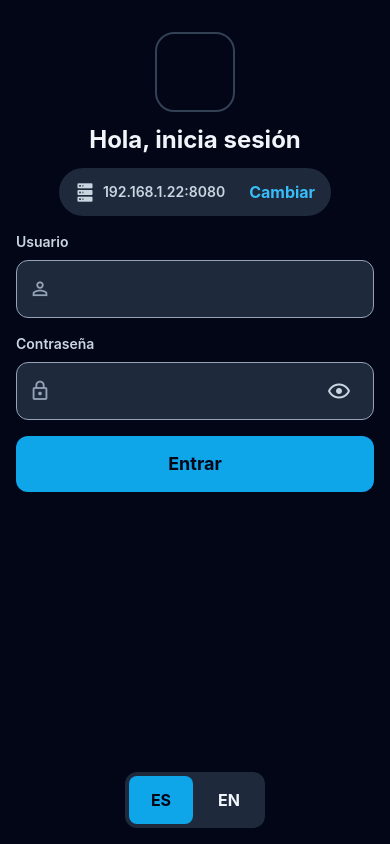
Test: shows the right error (0)
Type "ana" into the field with test id "login-username". click: (210, 289)
box: [59,261,361,317]
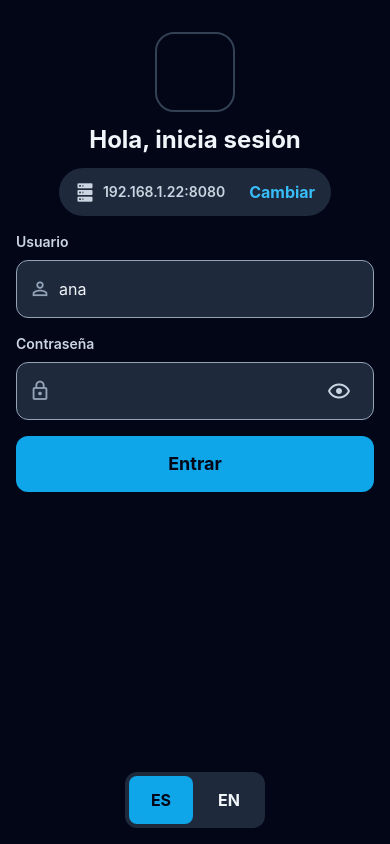
Type "x" into the password field with test id "login-password". click: (183, 391)
box: [59,363,307,419]
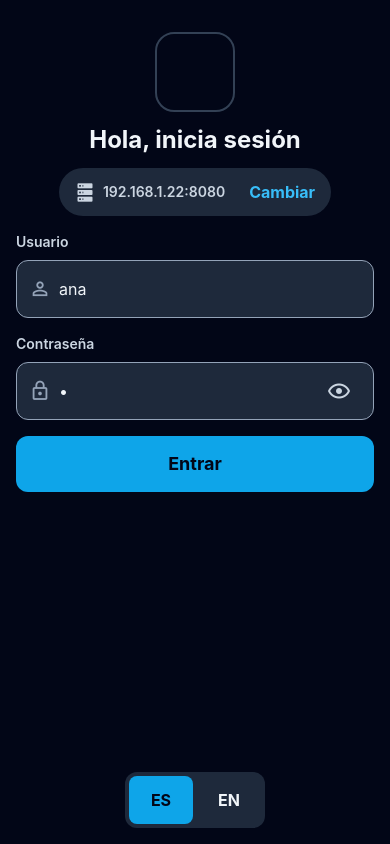
Click the button with test id "login-submit". click: click(195, 464)
box: [16,436,374,492]
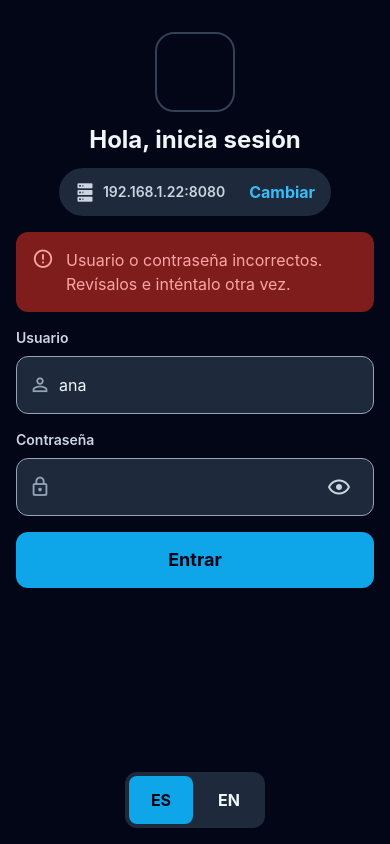
Now the text with test id "login-error" reads "Usuario o contraseña incorrectos. Revísalos e inténtalo otra vez.", box [66,250,327,294]
